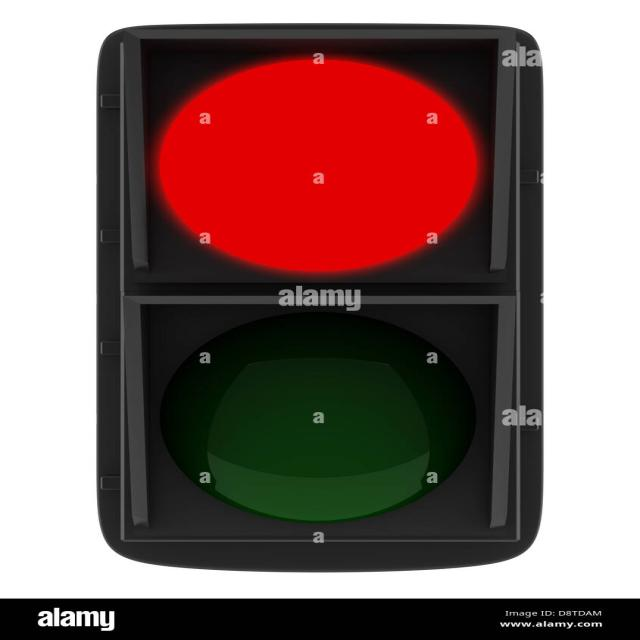red: (109, 34, 527, 269)
